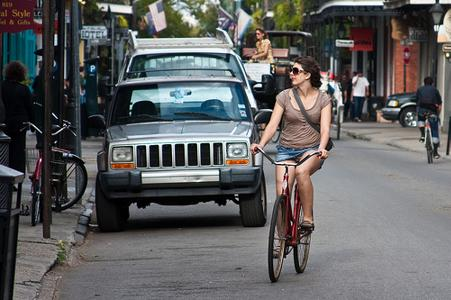person: (250, 59, 333, 256)
